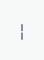one: (19, 20, 23, 40)
